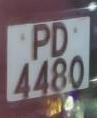0: (68, 53, 86, 95)
4: (12, 58, 33, 104), (33, 60, 52, 100)
8: (50, 56, 68, 98)
D: (51, 20, 70, 59)
P: (30, 21, 52, 64)
